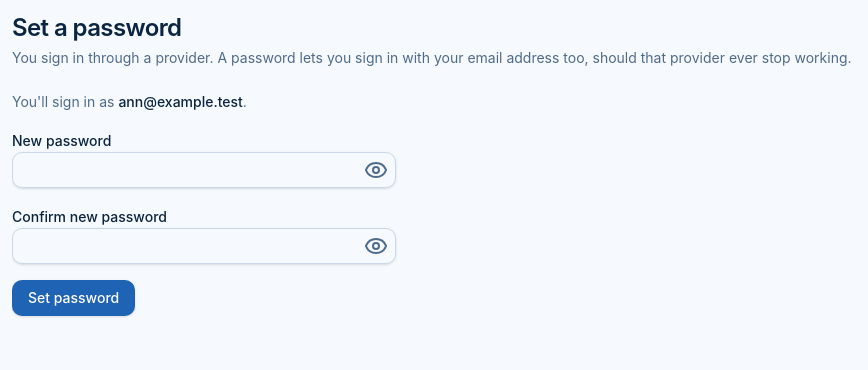
UserPasswordPage, an account without a password › checks the confirmation and shows a refusal
Expected: the text "ann@example.test" is shown, [118,93,243,110]
Type "new-pass" into the password field labelled "New password" at (204, 170), box [12,152,396,188]
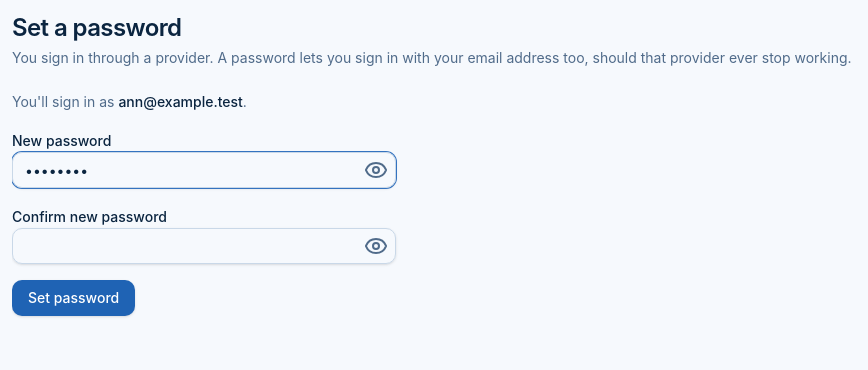
Type "other" into the password field labelled "Confirm new password" at (204, 246), box [12,228,396,264]
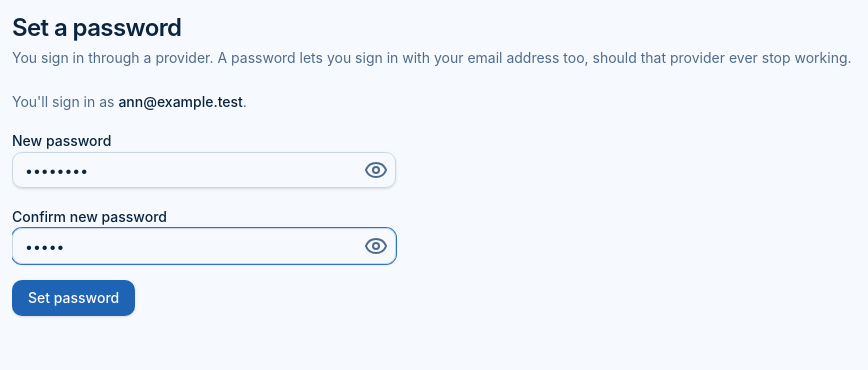
Click the button "Set password" at (74, 298), box [12,280,135,316]
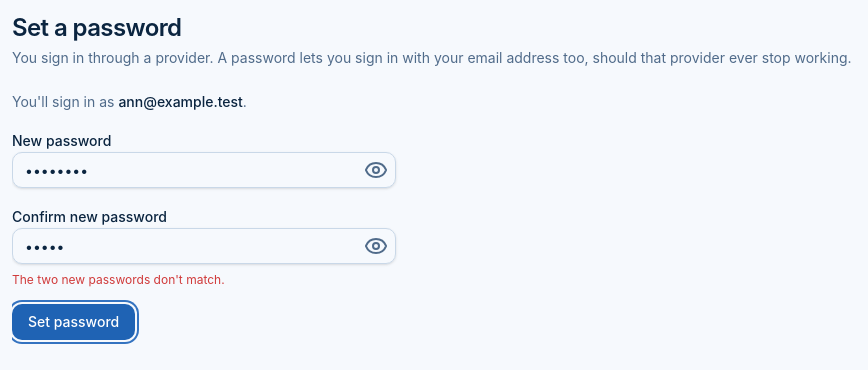
Expected: the message reads "The two new passwords don't match.", [12,272,225,287]
Type "new-pass" into the password field labelled "Confirm new password" at (204, 246), box [12,228,396,264]
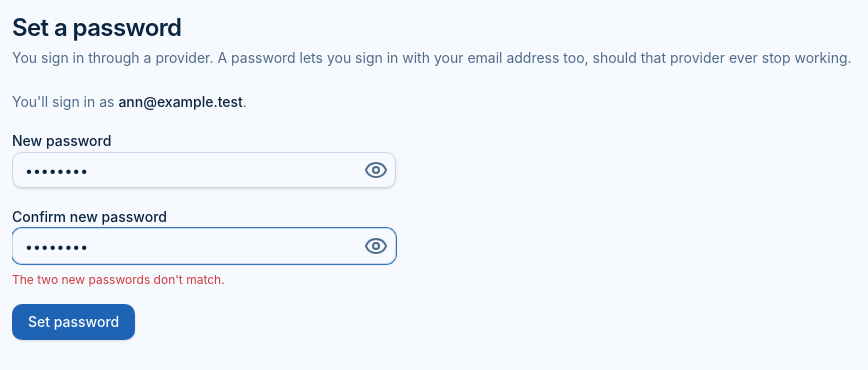
Click the button "Set password" at (74, 322), box [12,304,135,340]
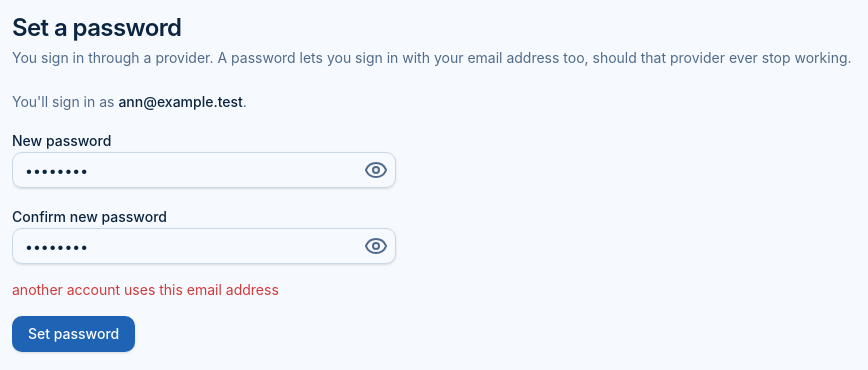
Expected: the message reads "another account uses this email address", [12,281,279,298]
